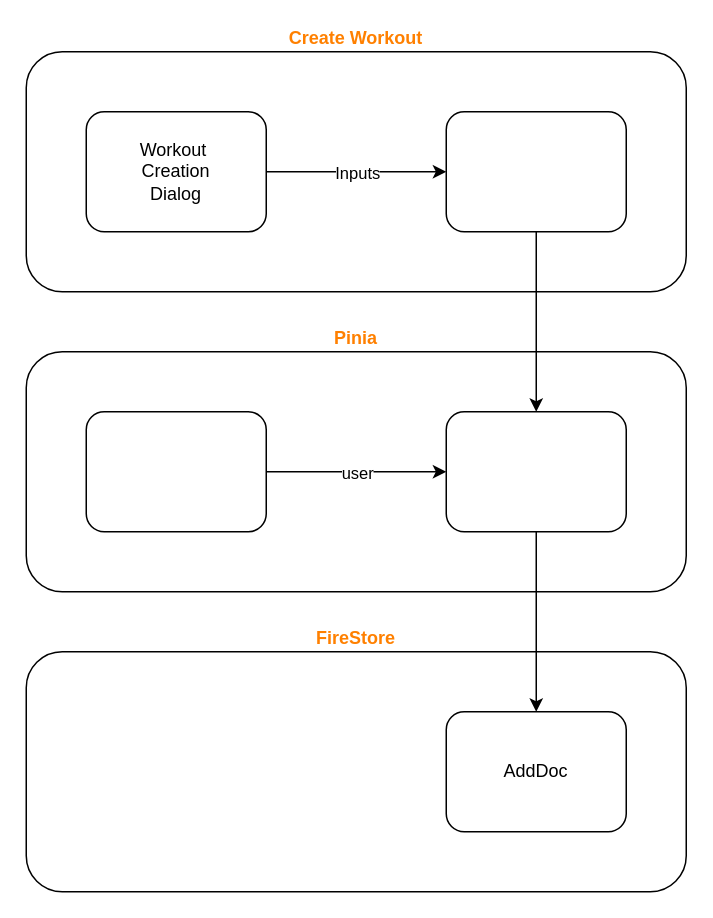
The diagram is 713 pixels wide and 918 high, and some of its shapes have lost their labels. The centre of each missing label's shape, as x and y in pixels:
"Nuxt Auth User Email" belongs at [175,471].
"videos name group difficulty" belongs at [535,171].
"videos name group difficulty user" belongs at [535,471].
